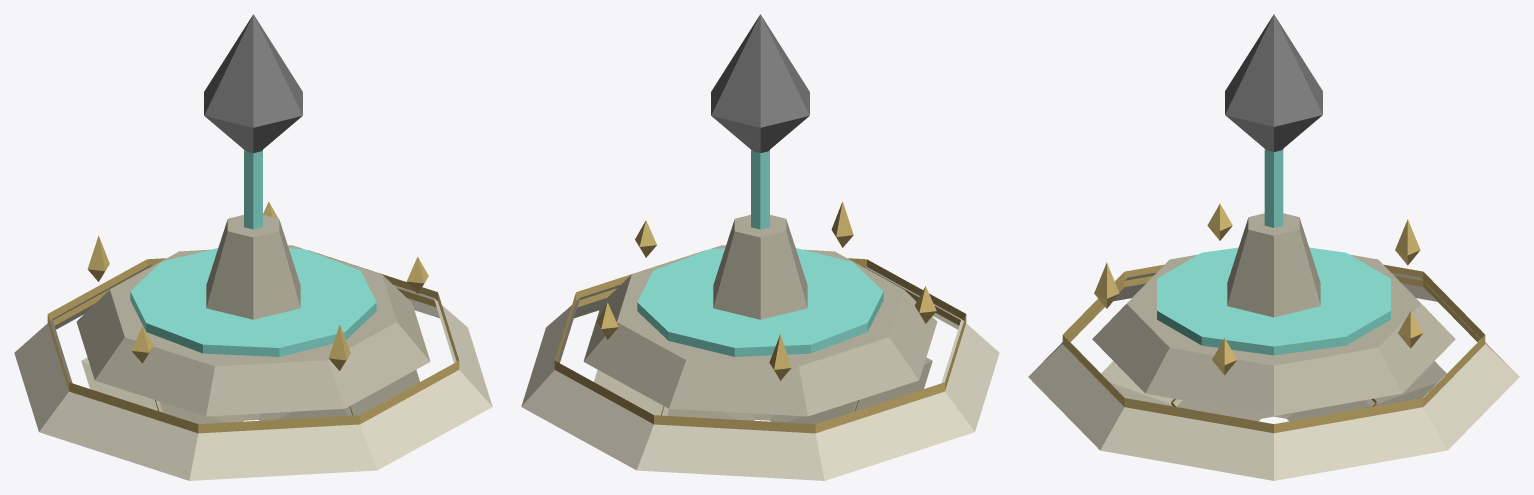
Rendered from ley-nexus.obj.
The picture shows the model from 3 angles, left to right: view 1: azimuth 30°, elevation 25°; view 2: azimuth 150°, elevation 25°; view 3: azimuth 270°, elevation 25°; orthographic projection.
Visible parts, largest first — view 1: ley-nexus; view 2: ley-nexus; view 3: ley-nexus.
Part boxes in pixels (<box>): ley-nexus: <box>14,14,492,480</box>; ley-nexus: <box>521,14,999,480</box>; ley-nexus: <box>1028,14,1519,480</box>.
Bounding box in the file's own units: 10 × 9.2 × 10.
